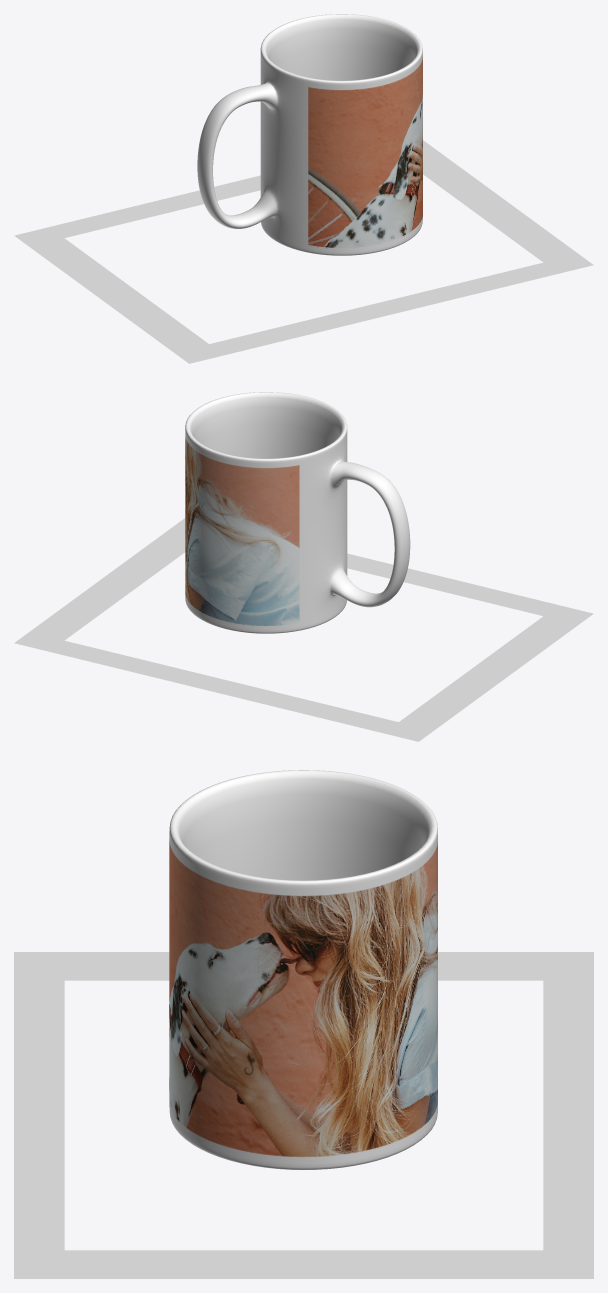
The model's file is teaser.glb.
3 renders of one model, top to bottom at view 1: azimuth 30°, elevation 25°; view 2: azimuth 150°, elevation 25°; view 3: azimuth 270°, elevation 25°, orthographic. The views are drawn at different scales.
Parts seen in each view (by area): view 1: Mug Front-View, Plane; view 2: Mug Front-View, Plane; view 3: Mug Front-View, Plane.
Boxes of the visible parts, left/top/right/bottom form: Mug Front-View: left=197, top=14, right=422, bottom=255; Plane: left=14, top=140, right=593, bottom=363; Mug Front-View: left=185, top=392, right=410, bottom=633; Plane: left=14, top=518, right=593, bottom=741; Mug Front-View: left=169, top=770, right=437, bottom=1169; Plane: left=14, top=952, right=593, bottom=1278.
Size of the model in its own units: 0.2304 by 0.1053 by 0.1728.
Materials: 1 (1 with a texture image).
